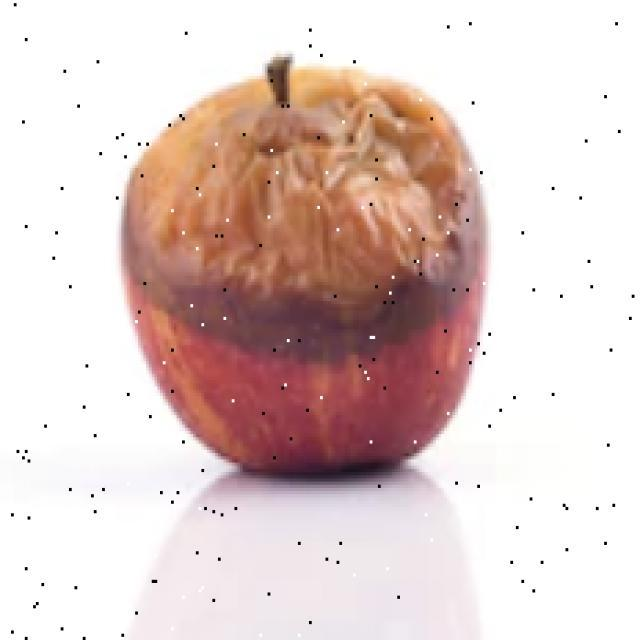Rotten: (128, 65, 504, 492)
